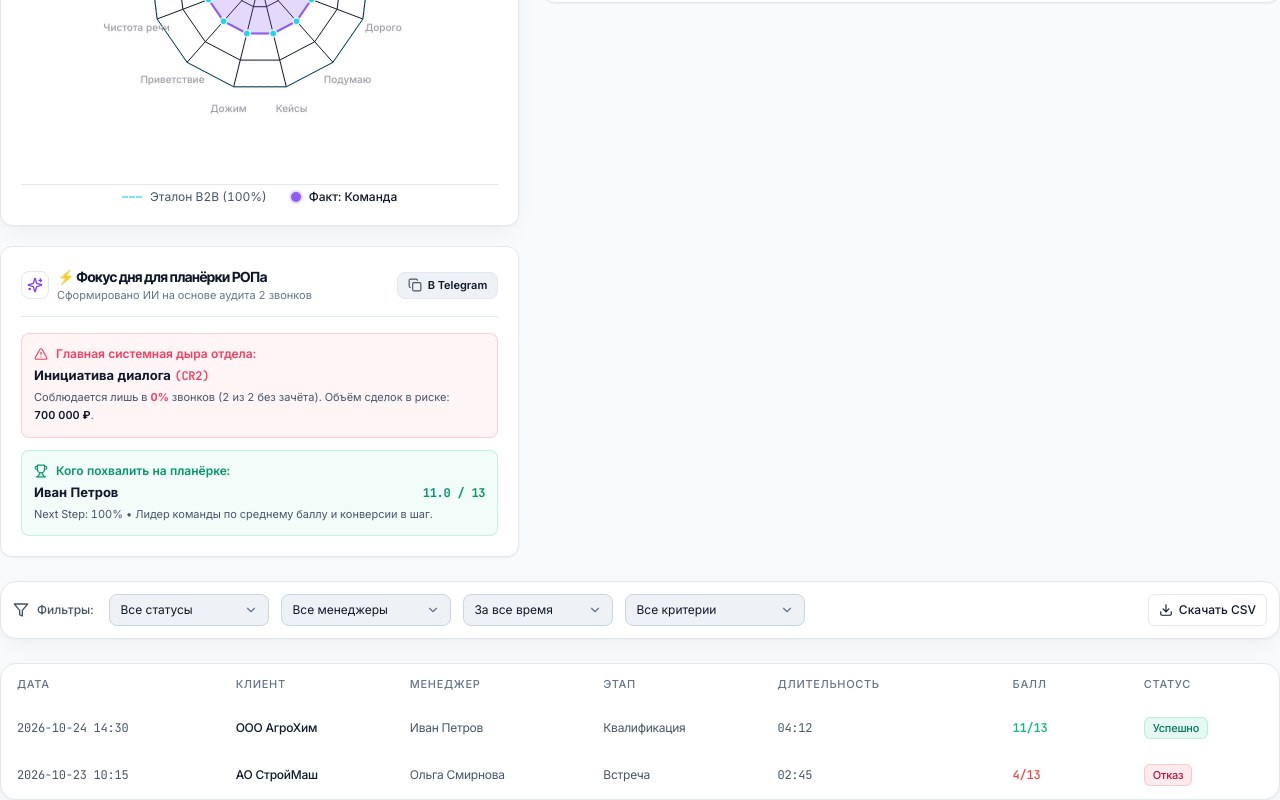
Test: AuditPage › visualizes 13 CR criteria correctly: 1 as green, 0 as red, null as gray
The image size is (1280, 800).
(page scrolled)
Click the text "ООО АгроХим": [276, 727] box x1=236 y1=720 x2=317 y2=735
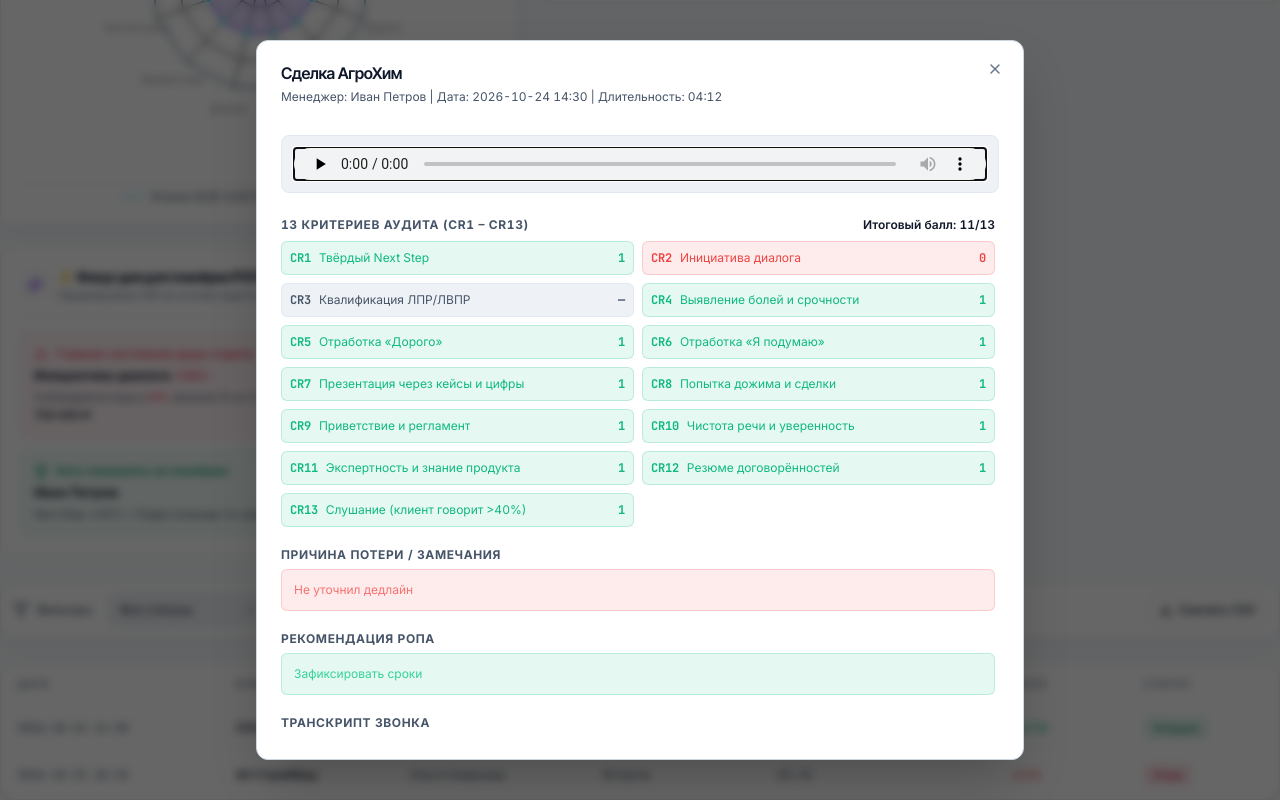
Check: the element with test id "cr-criteria-grid" is shown, box x1=281 y1=240 x2=995 y2=526
Check: the element with test id "cr-item-1" shows "1", box x1=304 y1=250 x2=311 y2=266
Check: the element with test id "cr-item-2" shows "0", box x1=979 y1=250 x2=986 y2=266
